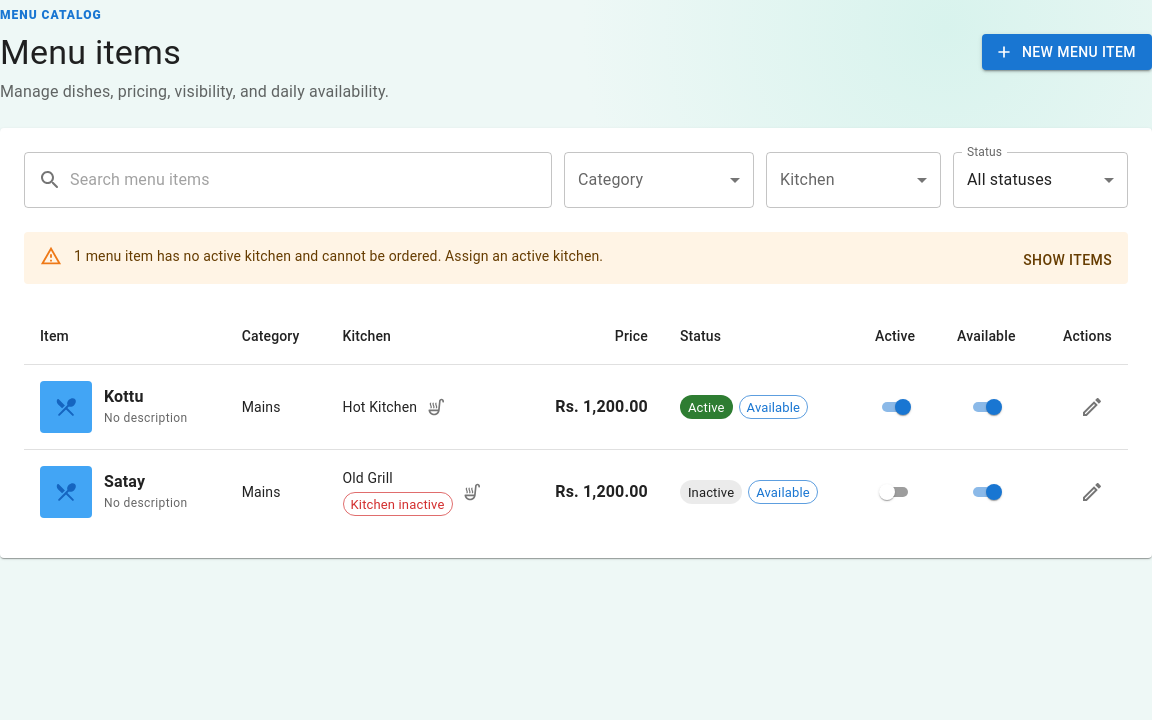
Test case: Menu item kitchen assignment › explains and blocks assignment when no kitchen is active
This screenshot has width=1152, height=720.
Click the button named "Change kitchen for Satay" at {"x": 472, "y": 492}, box [456, 477, 486, 507]
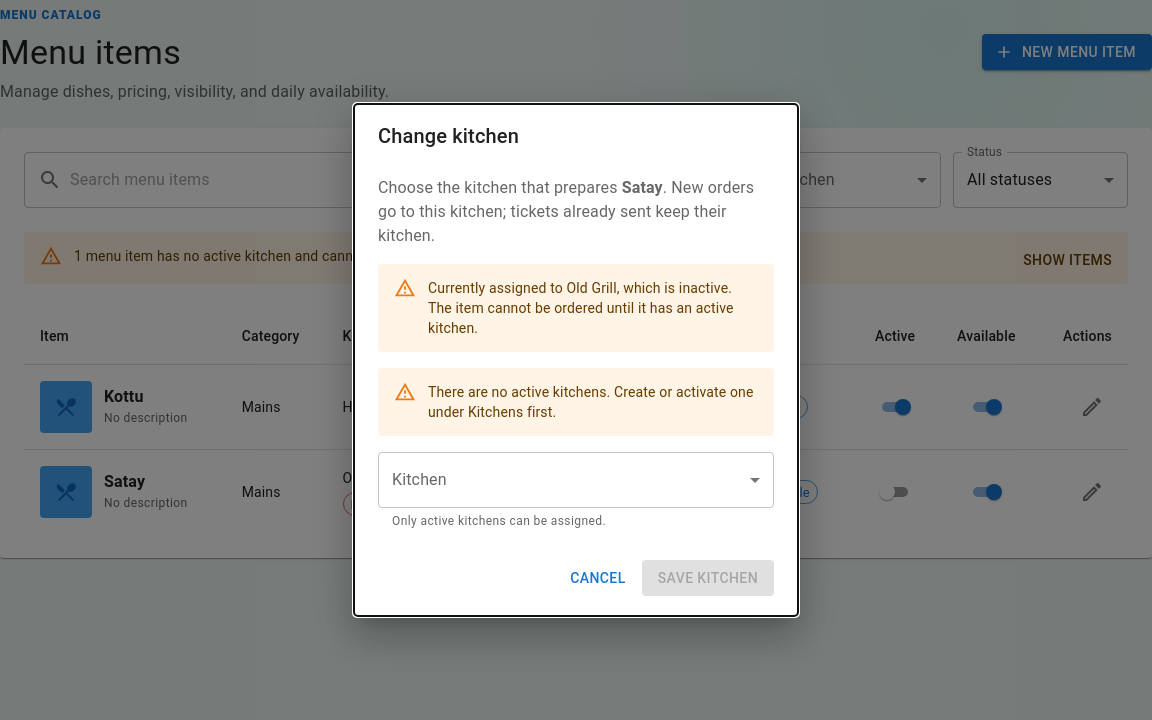
Check: the text "There are no active kitchens" is shown, box [428, 384, 754, 420]
Check: the button "Save kitchen" is disabled, box [642, 560, 774, 596]
